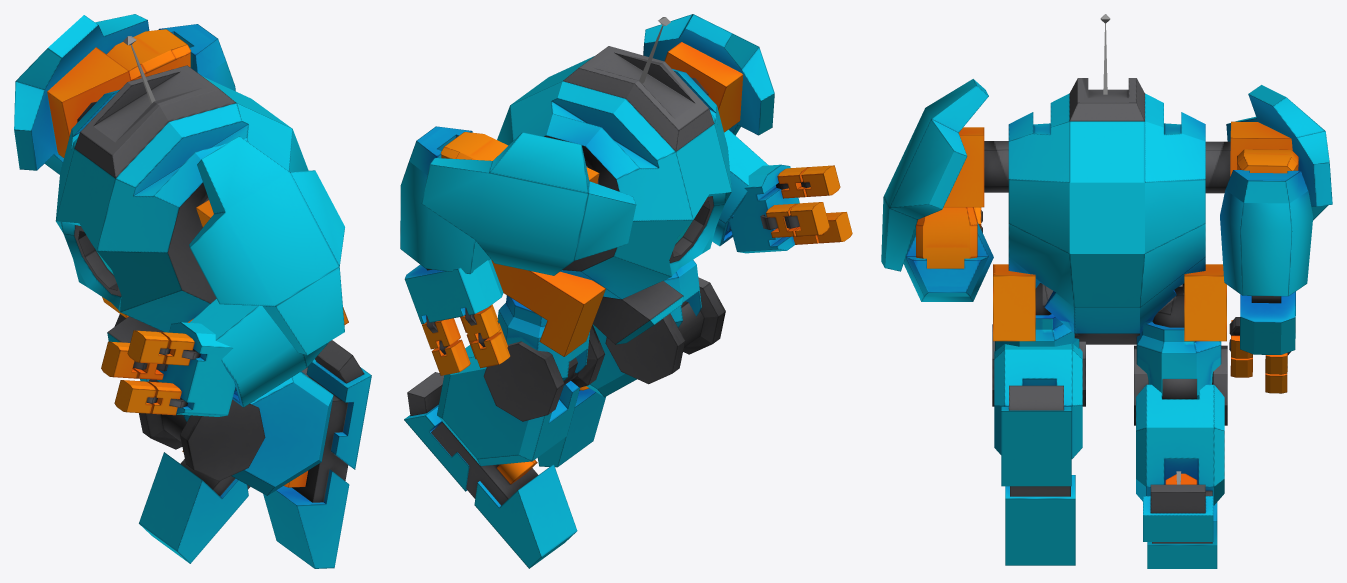
The model's file is Walk6.obj.
The picture shows the model from 3 angles, left to right: view 1: azimuth 30°, elevation 25°; view 2: azimuth 150°, elevation 25°; view 3: azimuth 270°, elevation 25°; orthographic projection. The views are drawn at different scales.
Parts seen in each view (by area): view 1: Plane001, Object006, Object002, Object013, Object014, Object008, Object011, Object007, Object003; view 2: Plane001, Object002, Object010, Object011, Object006, Object008, Object004, Object013, Object003, Object009, Object014, Object007 (+1 smaller); view 3: Plane001, Object006, Object014, Object003, Object010, Object002, Object011, Object013, Object004, Object009, Object007, Object012 (+2 smaller).
Part boxes in pixels (x1=…): Plane001: x1=55, y1=65, x2=348, y2=370; Object006: x1=189, y1=136, x2=344, y2=355; Object002: x1=14, y1=14, x2=190, y2=174; Object013: x1=139, y1=371, x2=333, y2=495; Object014: x1=263, y1=340, x2=371, y2=568; Object008: x1=101, y1=322, x2=235, y2=416; Object011: x1=139, y1=367, x2=308, y2=563; Object007: x1=189, y1=299, x2=329, y2=407; Object003: x1=158, y1=24, x2=235, y2=91; Plane001: x1=491, y1=46, x2=731, y2=356; Object002: x1=421, y1=132, x2=636, y2=275; Object010: x1=437, y1=324, x2=604, y2=466; Object011: x1=404, y1=372, x2=577, y2=568; Object006: x1=643, y1=14, x2=774, y2=135; Object008: x1=729, y1=164, x2=852, y2=253; Object004: x1=404, y1=259, x2=510, y2=375; Object013: x1=586, y1=277, x2=725, y2=397; Object003: x1=400, y1=126, x2=490, y2=273; Object009: x1=497, y1=295, x2=589, y2=380; Object014: x1=537, y1=386, x2=606, y2=467; Object007: x1=712, y1=129, x2=768, y2=246; Plane001: x1=993, y1=78, x2=1226, y2=344; Object006: x1=881, y1=79, x2=988, y2=271; Object014: x1=1001, y1=385, x2=1075, y2=565; Object003: x1=1220, y1=170, x2=1313, y2=296; Object010: x1=1134, y1=345, x2=1227, y2=505; Object002: x1=1226, y1=85, x2=1332, y2=220; Object011: x1=1143, y1=473, x2=1217, y2=568; Object013: x1=992, y1=324, x2=1085, y2=458; Object004: x1=1229, y1=291, x2=1295, y2=393; Object009: x1=1136, y1=283, x2=1221, y2=399; Object007: x1=903, y1=222, x2=993, y2=301; Object012: x1=995, y1=283, x2=1079, y2=351.
Bounding box in the file's own units: 137 × 230 × 182.
